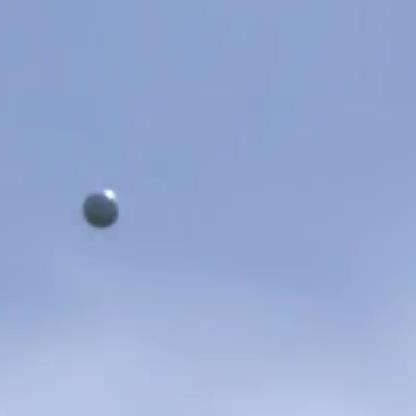golfball: (80, 188, 119, 227)
